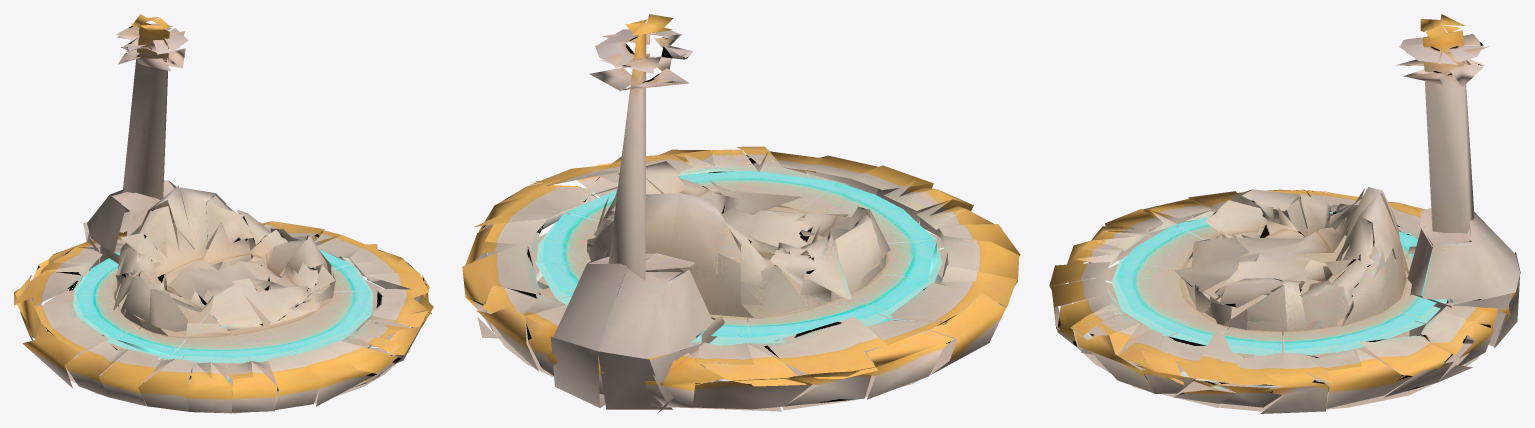
The model's file is charger.lod1.glb.
The picture shows the model from 3 angles, left to right: view 1: azimuth 30°, elevation 25°; view 2: azimuth 150°, elevation 25°; view 3: azimuth 270°, elevation 25°; orthographic projection. The views are drawn at different scales.
Visible parts, largest first — view 1: charger.001; view 2: charger.001; view 3: charger.001.
Part boxes in pixels (left/top/right/bottom): charger.001: left=14, top=14, right=433, bottom=413; charger.001: left=462, top=14, right=1020, bottom=412; charger.001: left=1049, top=14, right=1520, bottom=413.
Size of the model in its own units: 1.49 by 1.06 by 1.5.
Materials: 1 (1 with a texture image).
